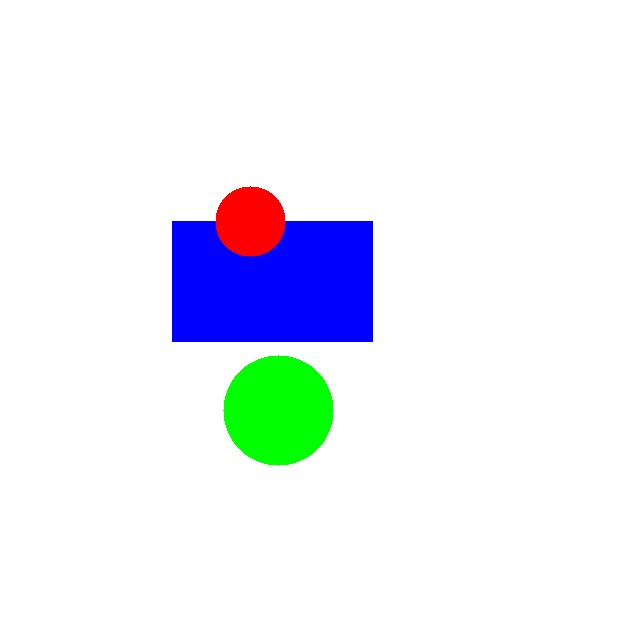cartao: (172, 221, 372, 341)
rosca_externa: (223, 355, 333, 465)
rosca_interna: (215, 186, 285, 256)
